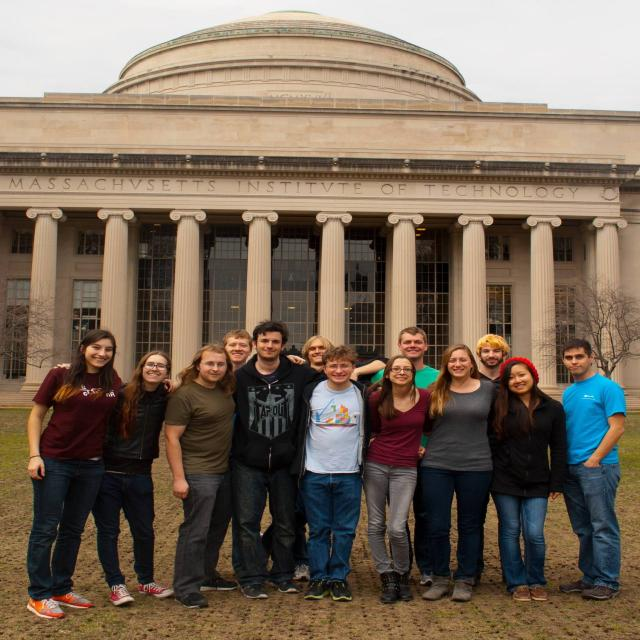body: (188, 318, 362, 601), (25, 327, 177, 622), (50, 349, 184, 608), (290, 333, 394, 582), (295, 344, 379, 602), (484, 355, 570, 604), (163, 344, 242, 609), (420, 343, 501, 601), (555, 336, 630, 603), (369, 326, 442, 586), (364, 354, 436, 604), (198, 328, 254, 574), (468, 333, 514, 391)
